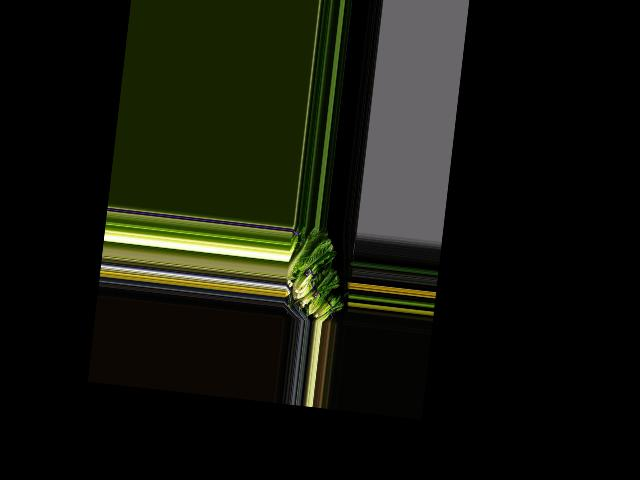lettuce: (289, 226, 332, 283)
